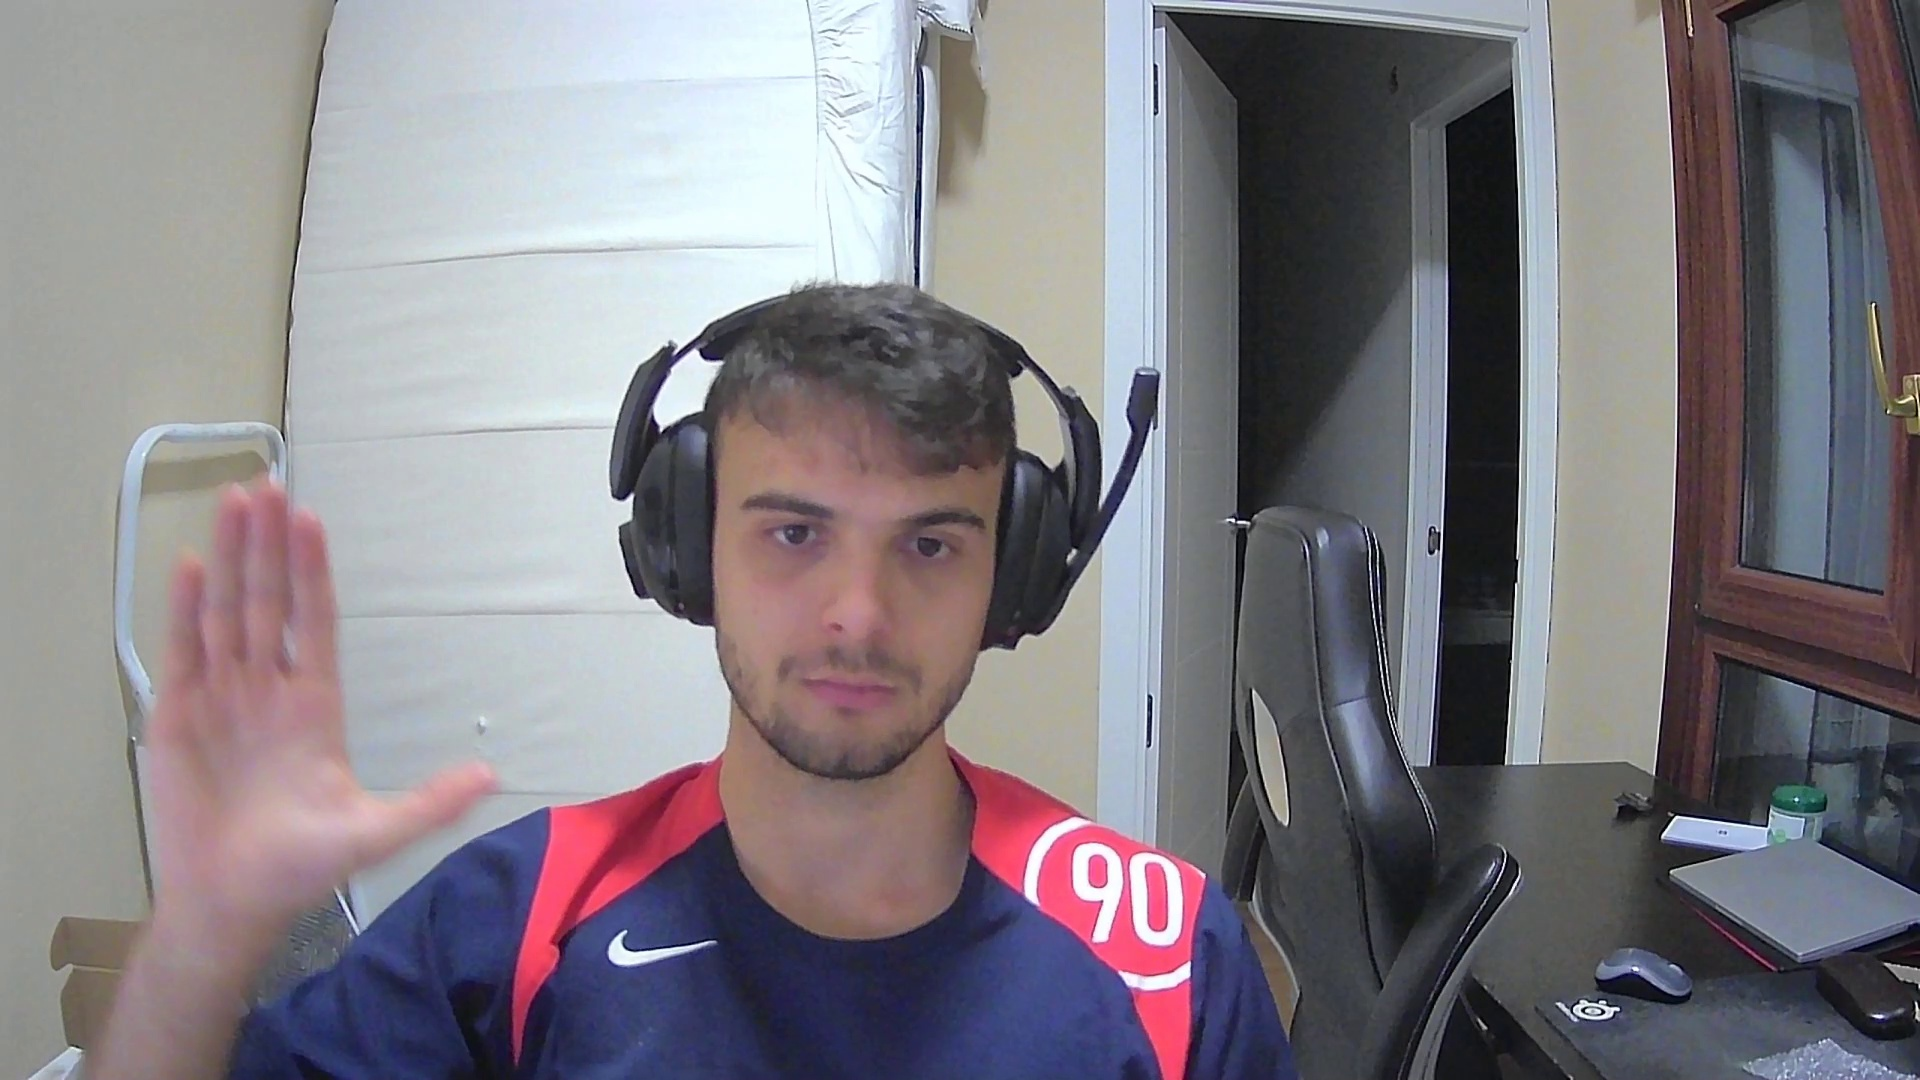Palm: (140, 476, 497, 907)
